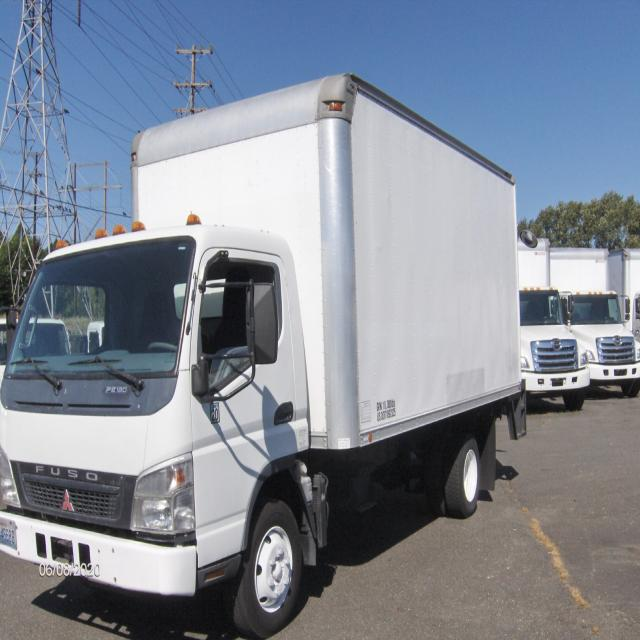truck: (0, 72, 518, 628)
